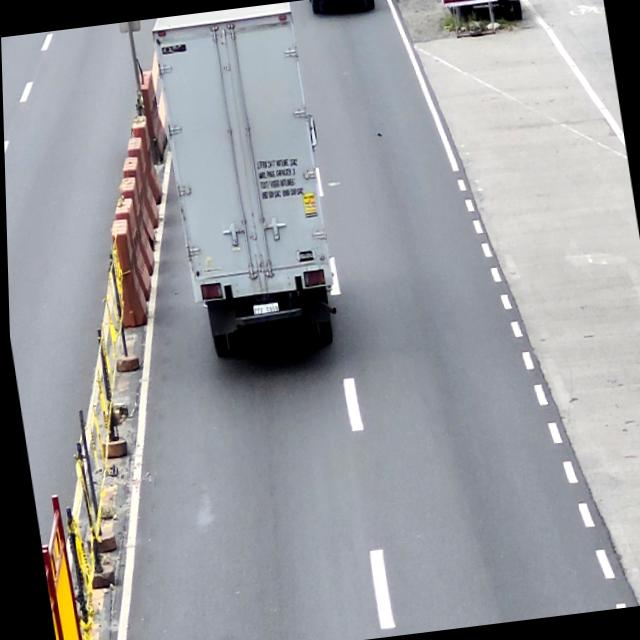License-Plate: (250, 301, 278, 315)
Truck: (149, 1, 346, 362)
